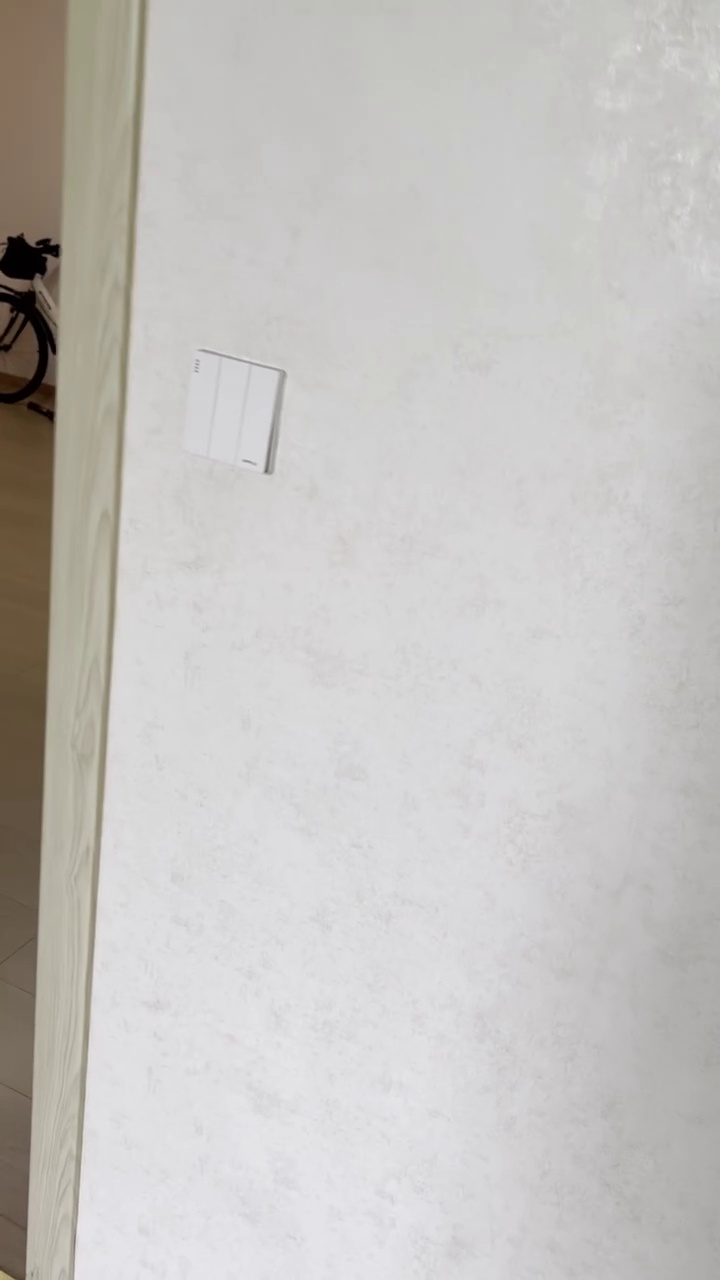button: (181, 345, 288, 483)
